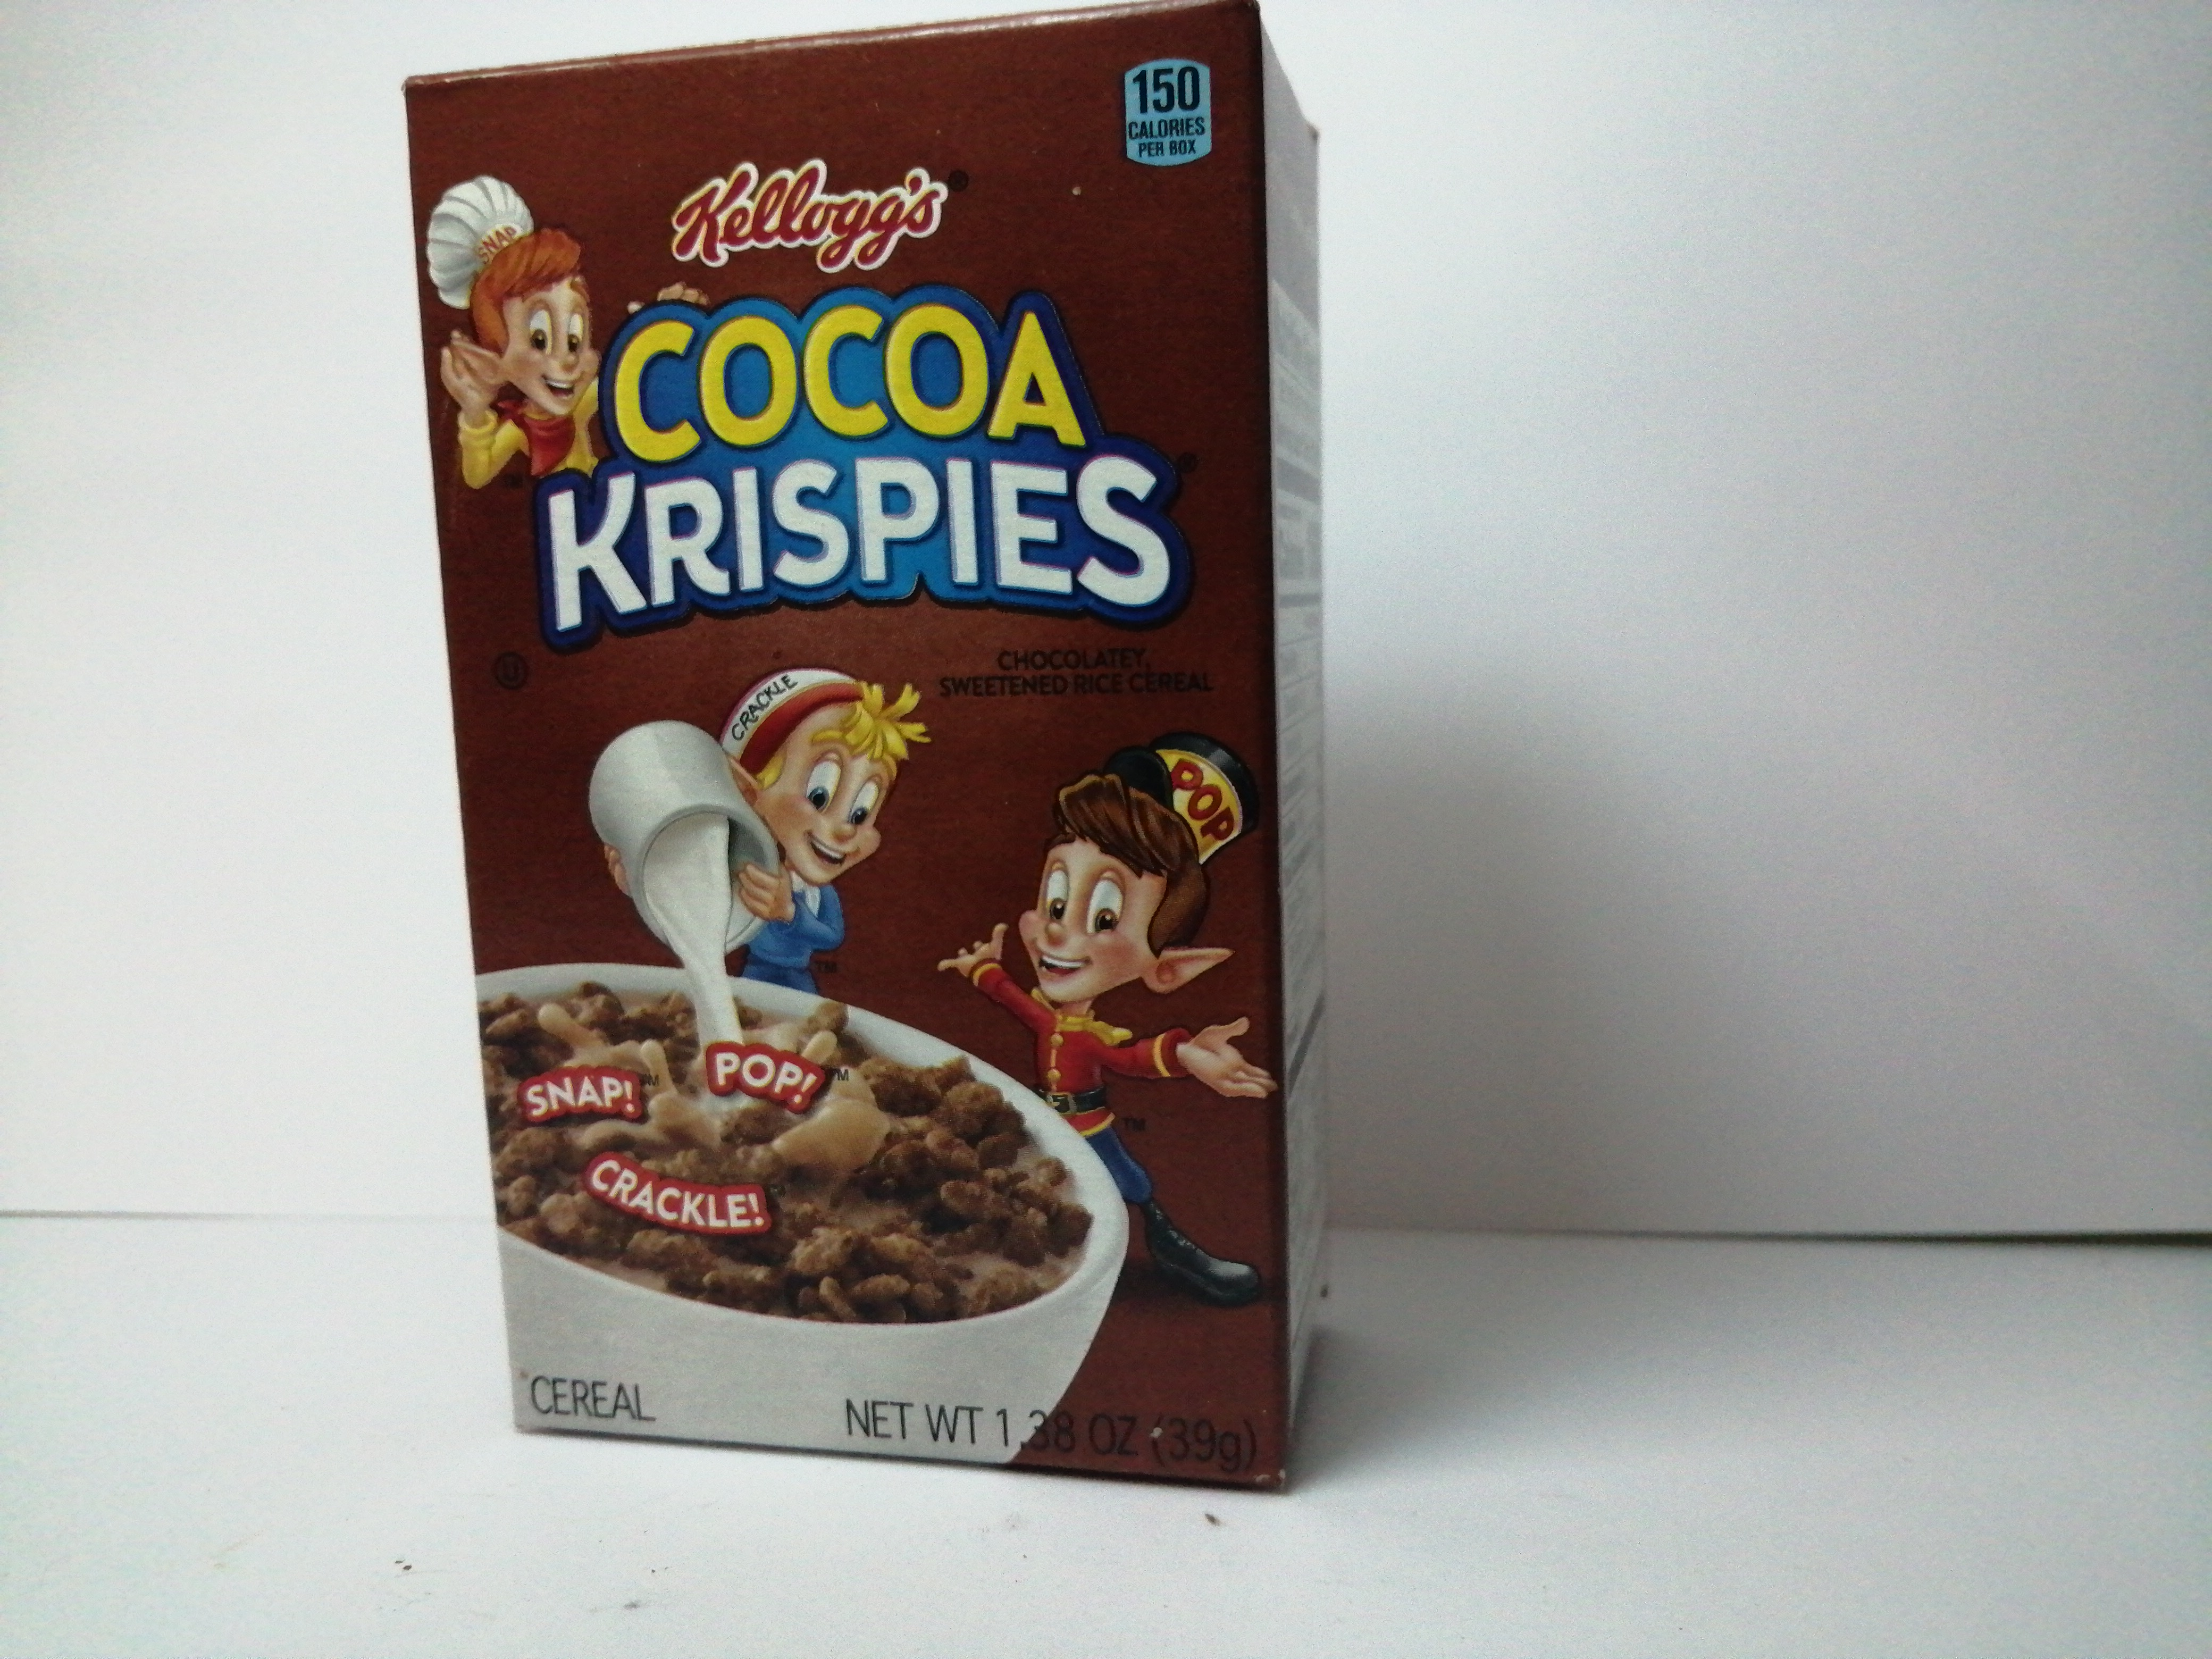cereal chocolate: (388, 9, 1379, 1490)
